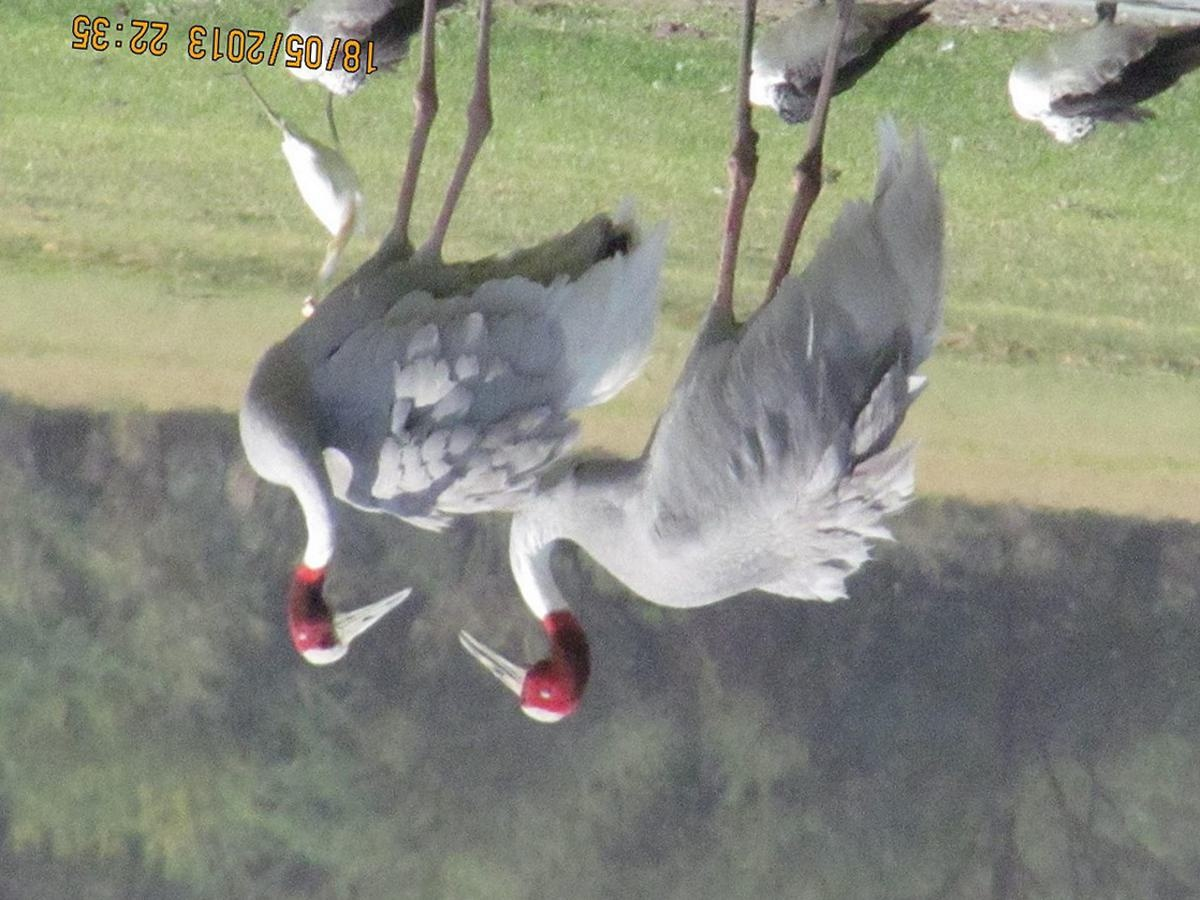crane: (451, 1, 950, 727), (237, 1, 630, 693)
